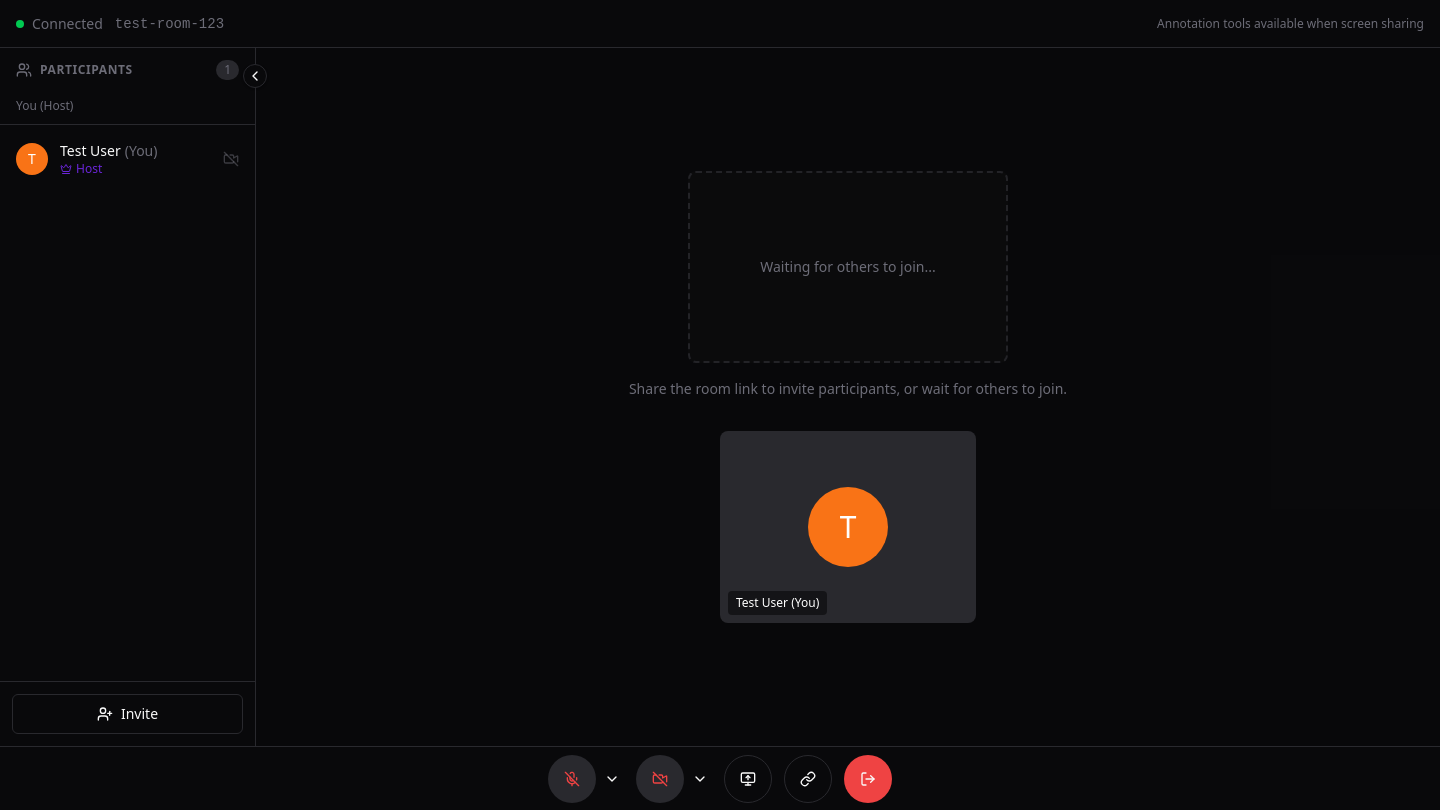
Test: MeetingRoom › Invite Controls Bar Button (AC-2.13.1) › controls bar invite button opens invite modal
What coordinates should you click on to do the following:
click the button named "Invite participants"
I would click on:
 (808, 778)
Its box is [784,754,832,802].
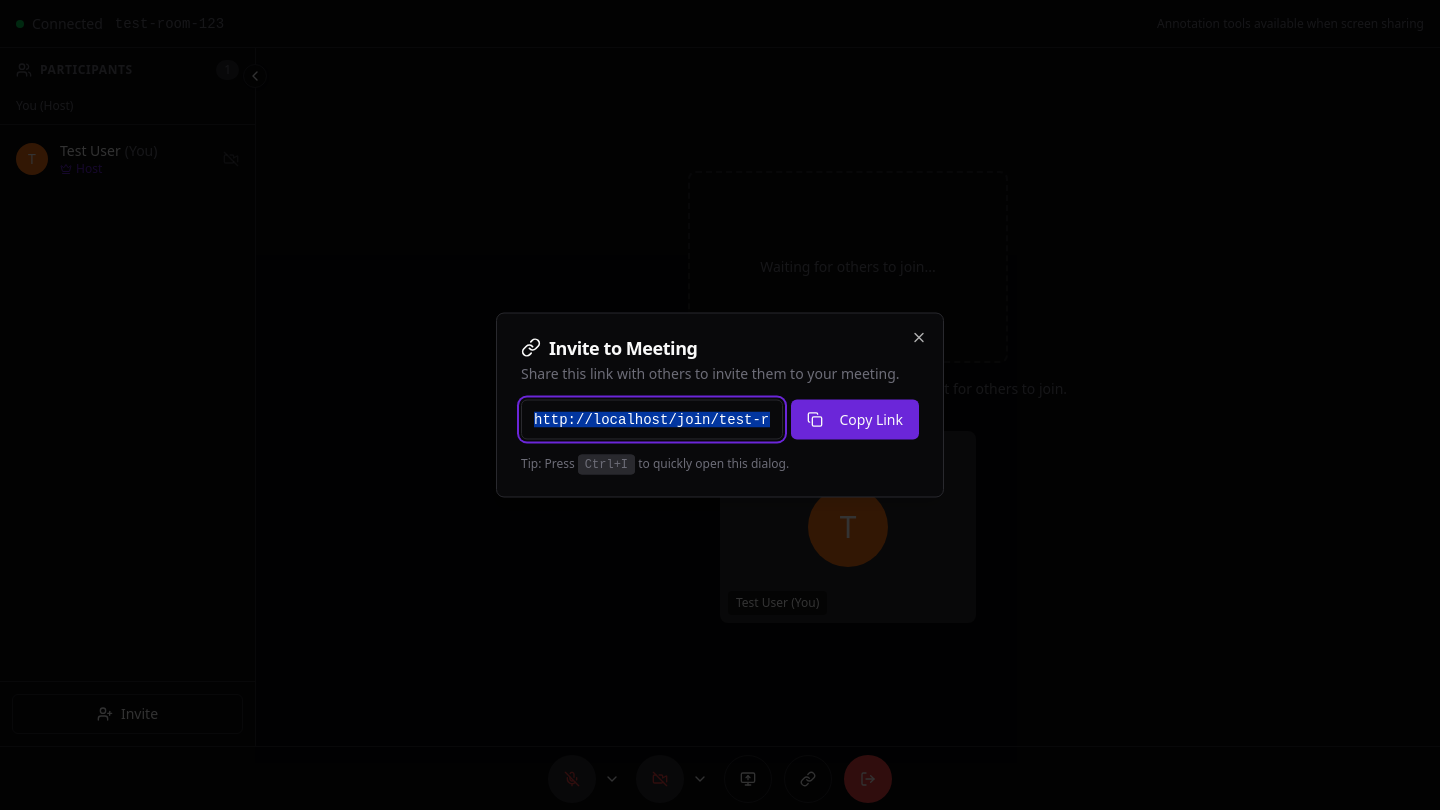
Result: the heading "Invite to Meeting" is shown at [521,336,698,360]
